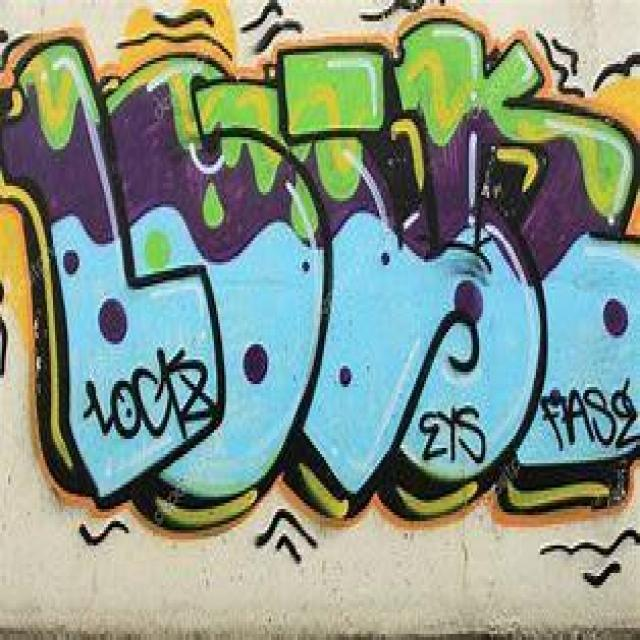nonspitting: (0, 0, 640, 592), (84, 342, 215, 438), (542, 374, 640, 452), (416, 402, 486, 463)
